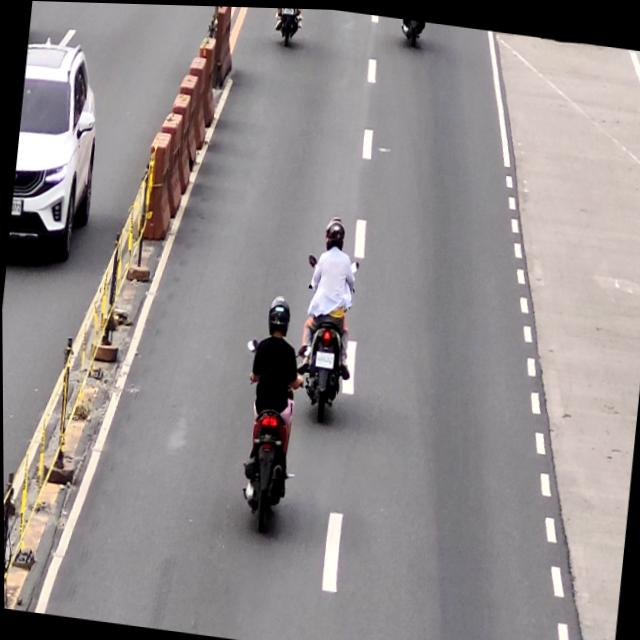License-Plate: (313, 347, 335, 367)
Motorcycle: (226, 336, 313, 535), (291, 249, 359, 425)
